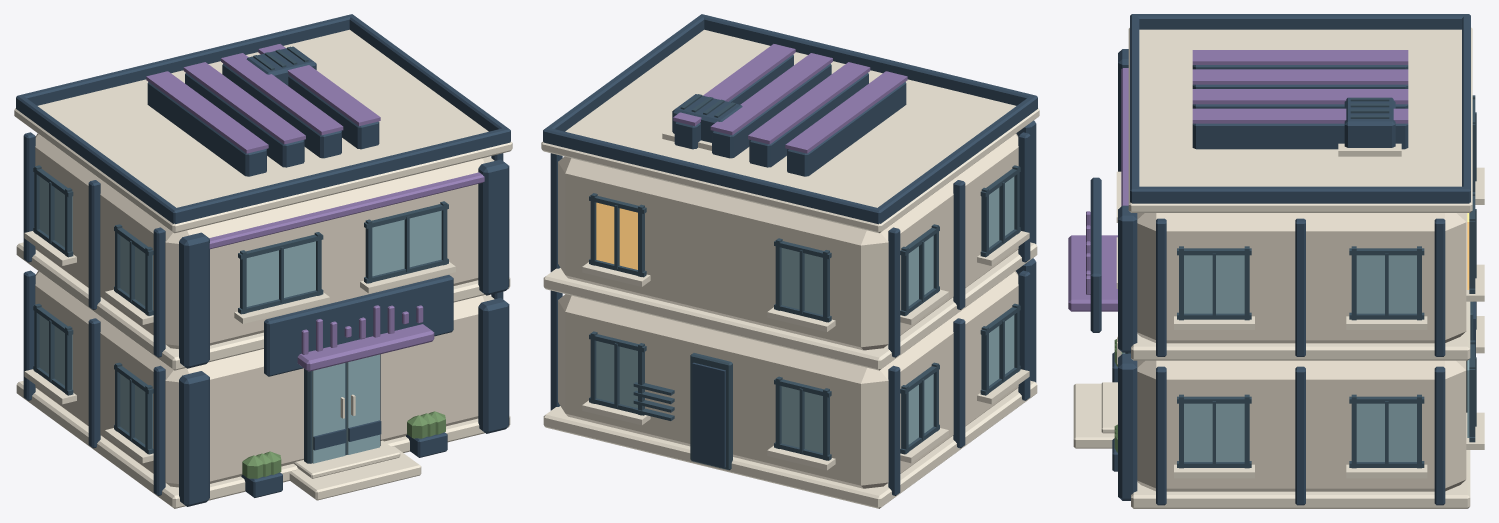
File: media-l02.glb
3 renders of one model, left to right at view 1: azimuth 30°, elevation 25°; view 2: azimuth 150°, elevation 25°; view 3: azimuth 270°, elevation 25°, orthographic. The views are drawn at different scales.
Visible parts, largest first — view 1: media_L02; view 2: media_L02; view 3: media_L02.
Boxes of the visible parts, x1,y1,x2,y2 form: media_L02: (14, 14, 512, 508); media_L02: (541, 14, 1039, 508); media_L02: (1068, 14, 1484, 508).
Size of the model in its own units: 5.77 by 4.87 by 5.39.
